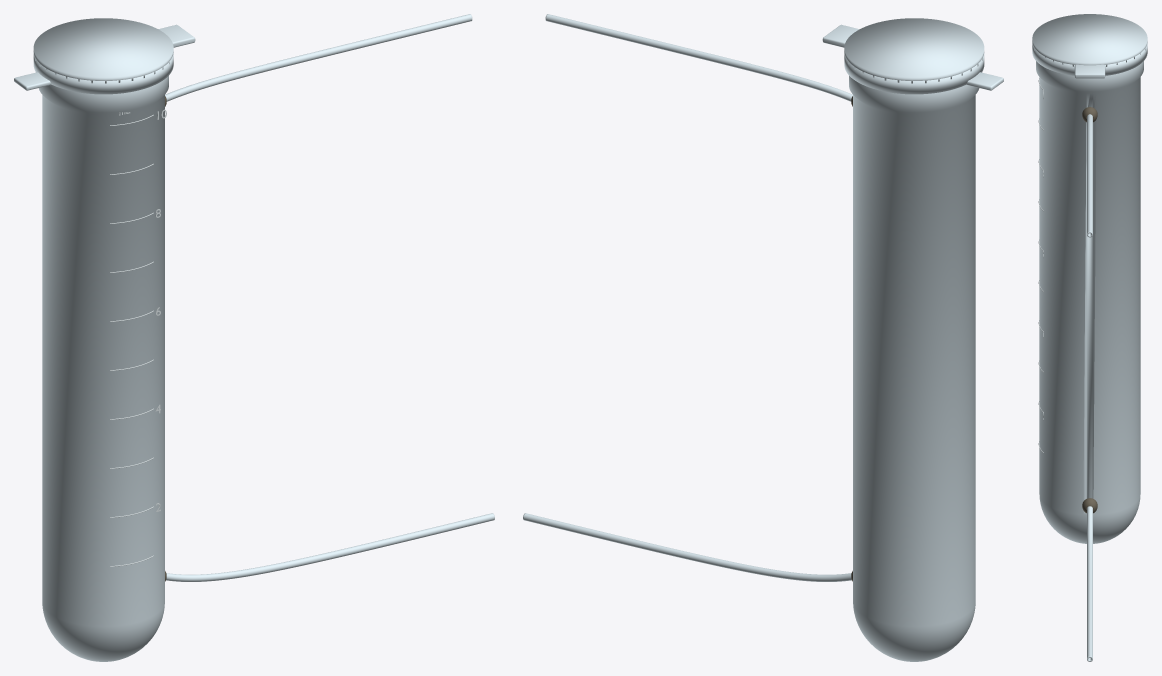
File: EP-Rhizon.glb
The picture shows the model from 3 angles, left to right: view 1: azimuth 30°, elevation 25°; view 2: azimuth 150°, elevation 25°; view 3: azimuth 270°, elevation 25°; orthographic projection. The views are drawn at different scales.
Parts seen in each view (by area): view 1: EP tube · OD15 ID14 · rounded bottom, Snap cap · top disk, Lower PTFE supply line · ID0.5 OD0.9 L60, Upper PTFE sampling line · ID0.5 OD0.9 L60, Snap cap · peripheral skirt; view 2: EP tube · OD15 ID14 · rounded bottom, Snap cap · top disk, Lower PTFE supply line · ID0.5 OD0.9 L60, Upper PTFE sampling line · ID0.5 OD0.9 L60, Snap cap · peripheral skirt; view 3: EP tube · OD15 ID14 · rounded bottom, Snap cap · top disk, Snap cap · peripheral skirt, Lower PTFE supply line · ID0.5 OD0.9 L60, Upper PTFE sampling line · ID0.5 OD0.9 L60, Cap opening tab.
Boxes of the visible parts, x1,y1,x2,y2 form: EP tube · OD15 ID14 · rounded bottom: (38, 76, 168, 661); Snap cap · top disk: (33, 18, 173, 83); Lower PTFE supply line · ID0.5 OD0.9 L60: (166, 513, 494, 581); Upper PTFE sampling line · ID0.5 OD0.9 L60: (165, 14, 472, 101); Snap cap · peripheral skirt: (33, 53, 173, 94); EP tube · OD15 ID14 · rounded bottom: (849, 76, 979, 661); Snap cap · top disk: (844, 18, 984, 83); Lower PTFE supply line · ID0.5 OD0.9 L60: (523, 513, 851, 581); Upper PTFE sampling line · ID0.5 OD0.9 L60: (545, 14, 852, 101); Snap cap · peripheral skirt: (844, 53, 984, 94); EP tube · OD15 ID14 · rounded bottom: (1036, 61, 1143, 543); Snap cap · top disk: (1032, 14, 1147, 66); Snap cap · peripheral skirt: (1032, 43, 1147, 75); Lower PTFE supply line · ID0.5 OD0.9 L60: (1087, 506, 1092, 661); Upper PTFE sampling line · ID0.5 OD0.9 L60: (1087, 114, 1092, 237); Cap opening tab: (1074, 64, 1105, 78).
Bounding box in the file's own units: 0.0667 × 0.082 × 0.0171.
